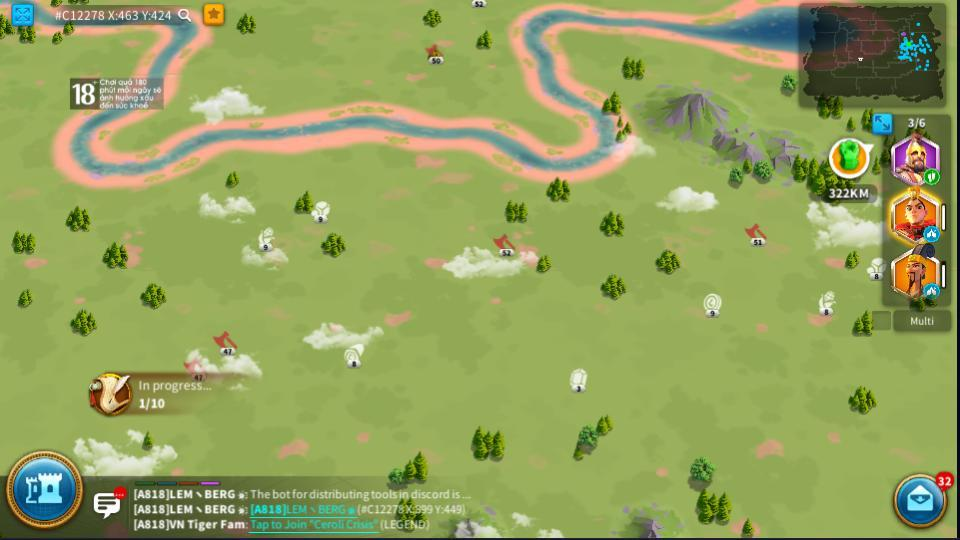gem-z-out: (566, 369, 589, 391), (673, 186, 693, 203)
march_idle: (923, 285, 939, 297), (923, 227, 938, 239)
march_marching: (923, 170, 937, 183)
